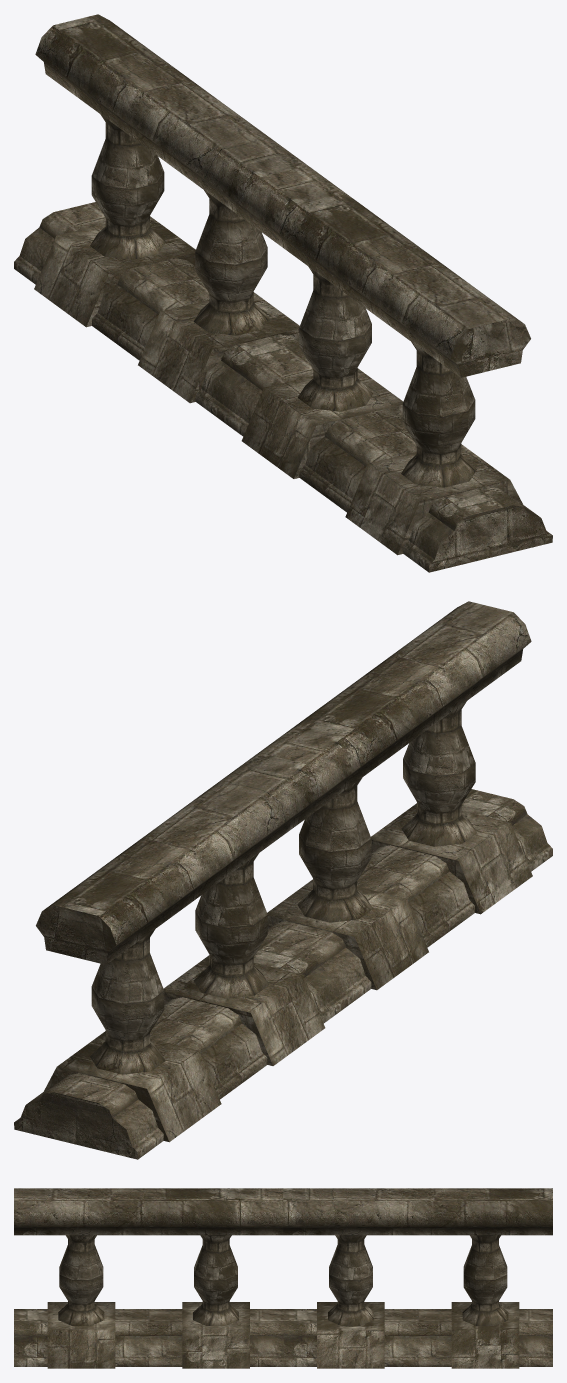
File: railing_worn_amfp.dae
3 renders of one model, top to bottom at view 1: azimuth 30°, elevation 25°; view 2: azimuth 150°, elevation 25°; view 3: azimuth 270°, elevation 25°, orthographic. The views are drawn at different scales.
Visible parts, largest first — view 1: castlebase_railing_worn; view 2: castlebase_railing_worn; view 3: castlebase_railing_worn.
Part boxes in pixels (x1,y1,x2,y2): castlebase_railing_worn: (14,14,552,572); castlebase_railing_worn: (14,601,552,1159); castlebase_railing_worn: (14,1188,552,1368).
Size of the model in its own units: 0.7518 by 1.24 by 4.
